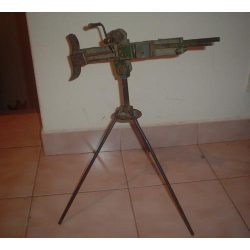rifle: (38, 29, 223, 220)
